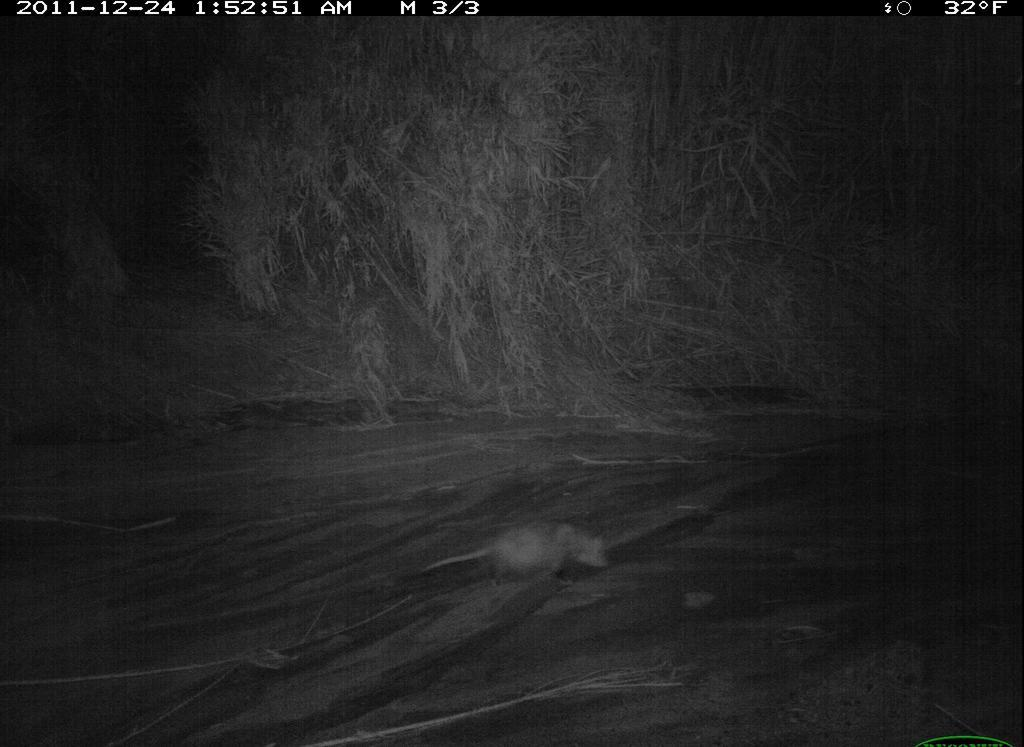opossum: (417, 509, 641, 610)
